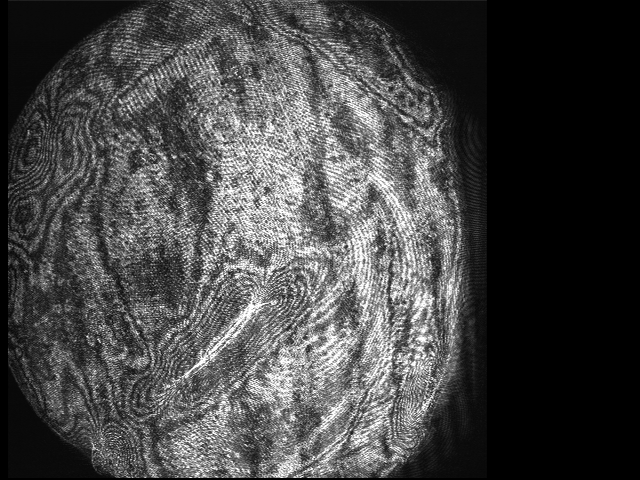plume: (152, 265, 314, 403)
